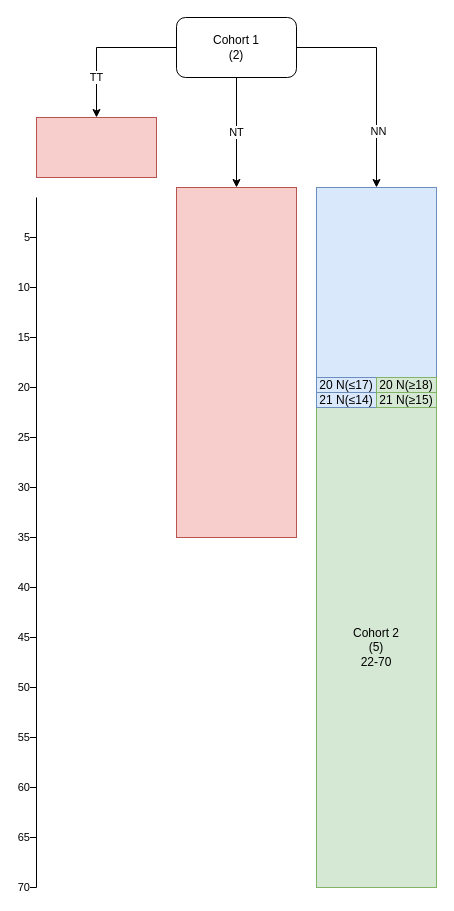
Image size: 454x911. Some labels were removed from this diagram. Each missing label, with the centre of its shape:
Cohort 2 (1): the point at 96,147
Cohort 2 (1) 1-35: the point at 236,362
Cohort 2 (4) 2-19: the point at 376,282
